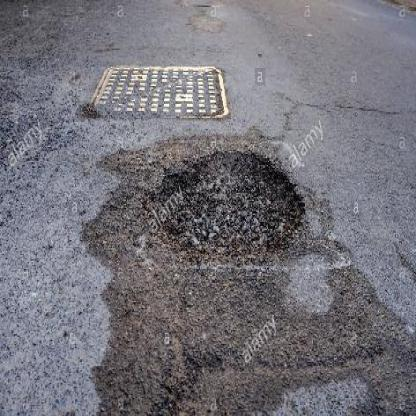pothole: (139, 147, 306, 260)
